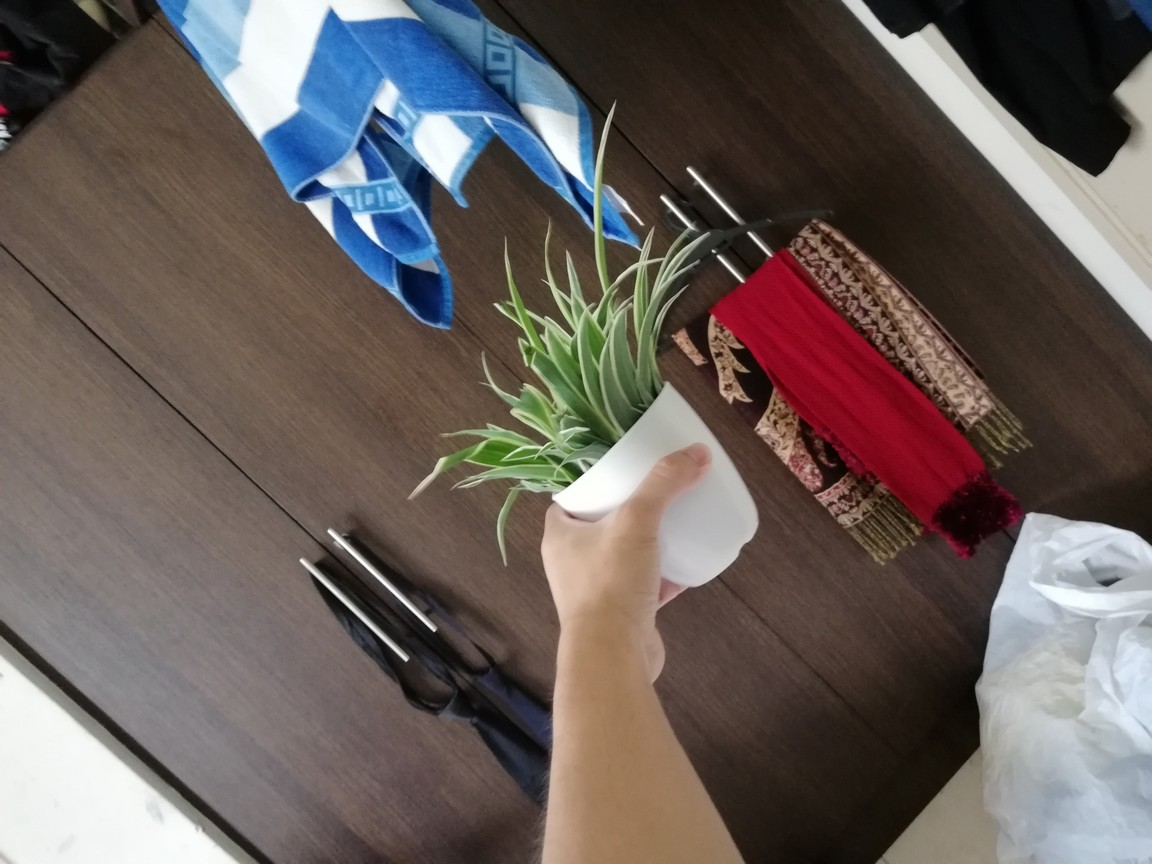daun: (407, 439, 489, 498), (591, 98, 618, 273), (650, 283, 691, 346), (479, 349, 518, 403), (522, 383, 557, 439), (496, 484, 518, 570), (449, 468, 495, 497), (578, 300, 597, 368), (504, 233, 523, 300), (669, 219, 699, 250), (680, 231, 713, 259), (666, 259, 702, 284), (497, 446, 539, 466), (564, 248, 582, 293), (543, 213, 554, 286), (542, 279, 571, 300), (638, 224, 656, 257), (436, 428, 490, 438), (457, 483, 489, 497), (484, 420, 505, 435)
